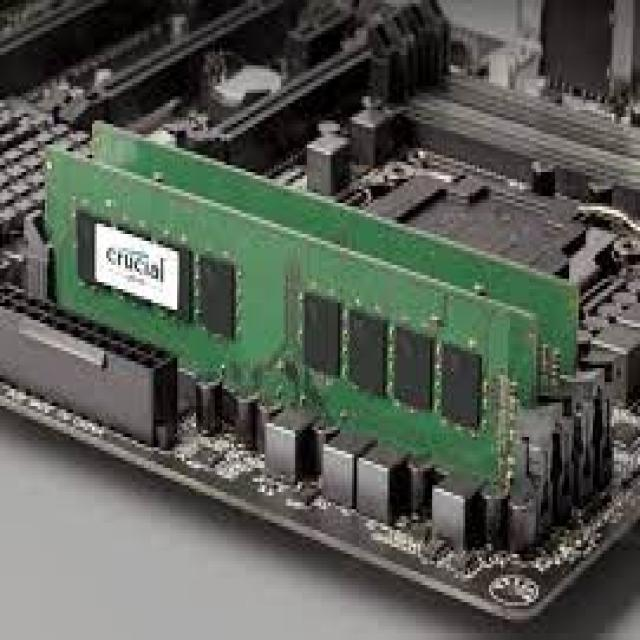Ram: (46, 96, 610, 533)
